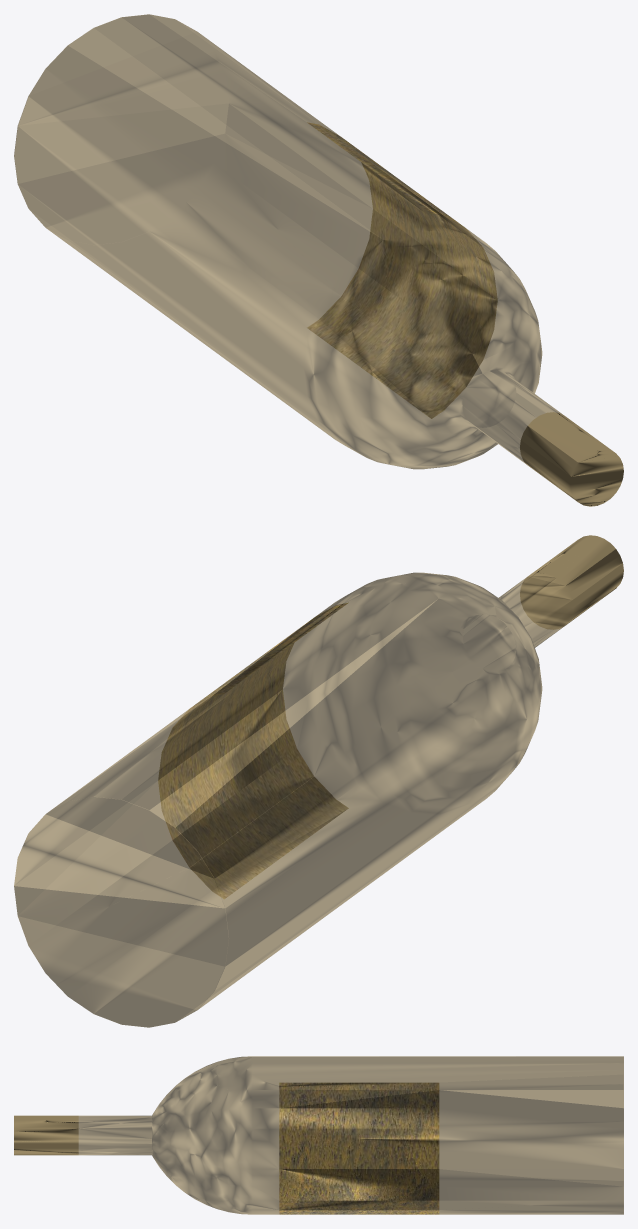
The model's file is model_align.obj.
The picture shows the model from 3 angles, top to bottom: view 1: azimuth 30°, elevation 25°; view 2: azimuth 150°, elevation 25°; view 3: azimuth 270°, elevation 25°; orthographic projection. The views are drawn at different scales.
Size of the model in its own units: 0.0651 by 0.0651 by 0.2495.
